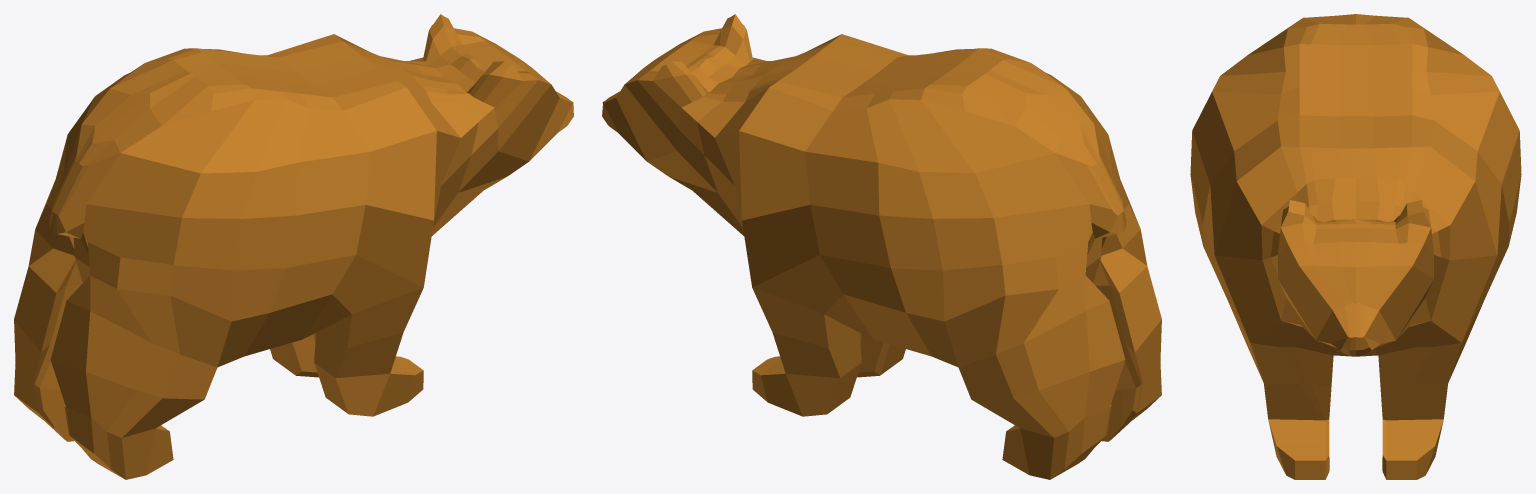
The model's file is bear.glb.
The picture shows the model from 3 angles, left to right: view 1: azimuth 30°, elevation 25°; view 2: azimuth 150°, elevation 25°; view 3: azimuth 270°, elevation 25°; orthographic projection. The views are drawn at different scales.
Visible parts, largest first — view 1: Plane; view 2: Plane; view 3: Plane.
Boxes of the visible parts, <box> form: Plane: <box>14,14,573,479</box>; Plane: <box>602,14,1161,479</box>; Plane: <box>1190,14,1521,479</box>.
Size of the model in its own units: 4.44 by 2.85 by 2.36.
